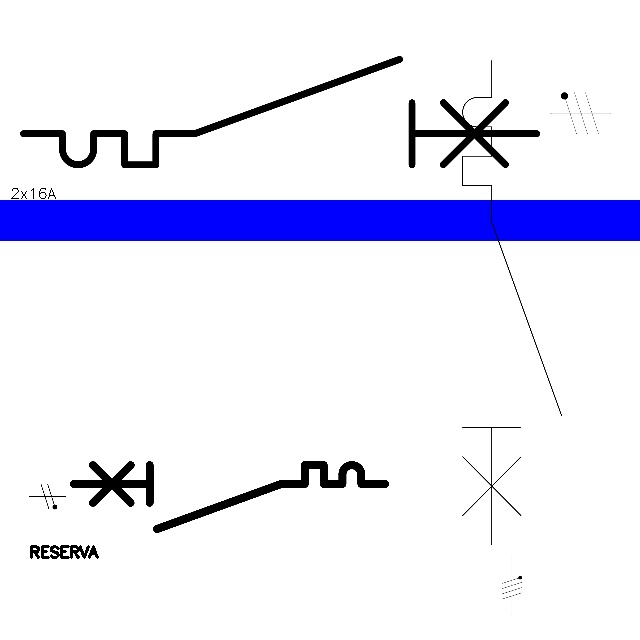interruptor_termomagnetico: (10, 46, 550, 178), (450, 48, 574, 557), (66, 457, 393, 537)
